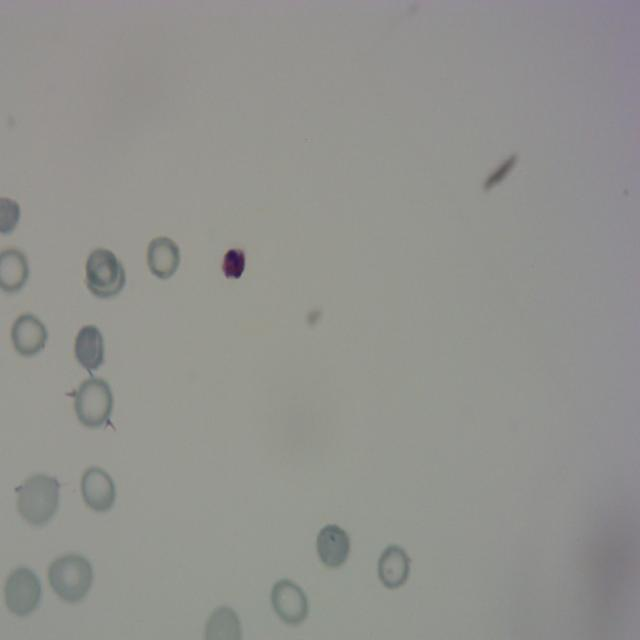leukocyte: (13, 469, 61, 528), (47, 548, 95, 606), (72, 373, 115, 431), (83, 245, 126, 302), (268, 574, 311, 630), (8, 307, 50, 360), (77, 460, 118, 514), (3, 562, 45, 614), (372, 541, 412, 595), (72, 322, 108, 377), (314, 521, 352, 573), (146, 230, 181, 280)
